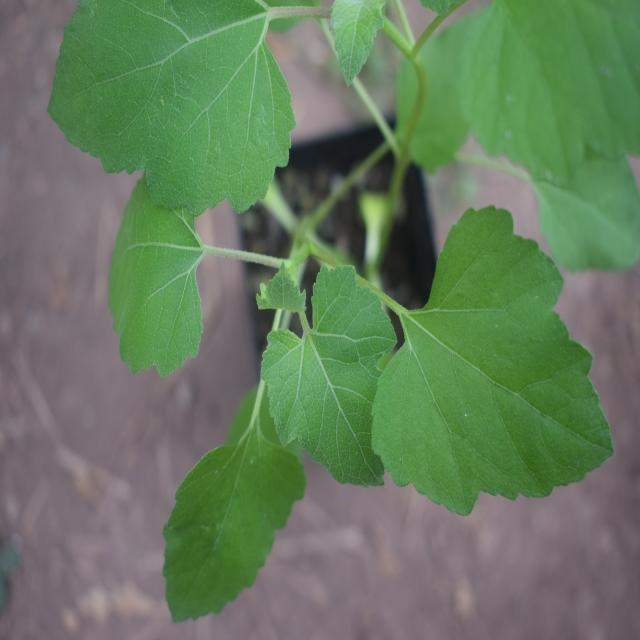cocklebur: (71, 0, 585, 548)
